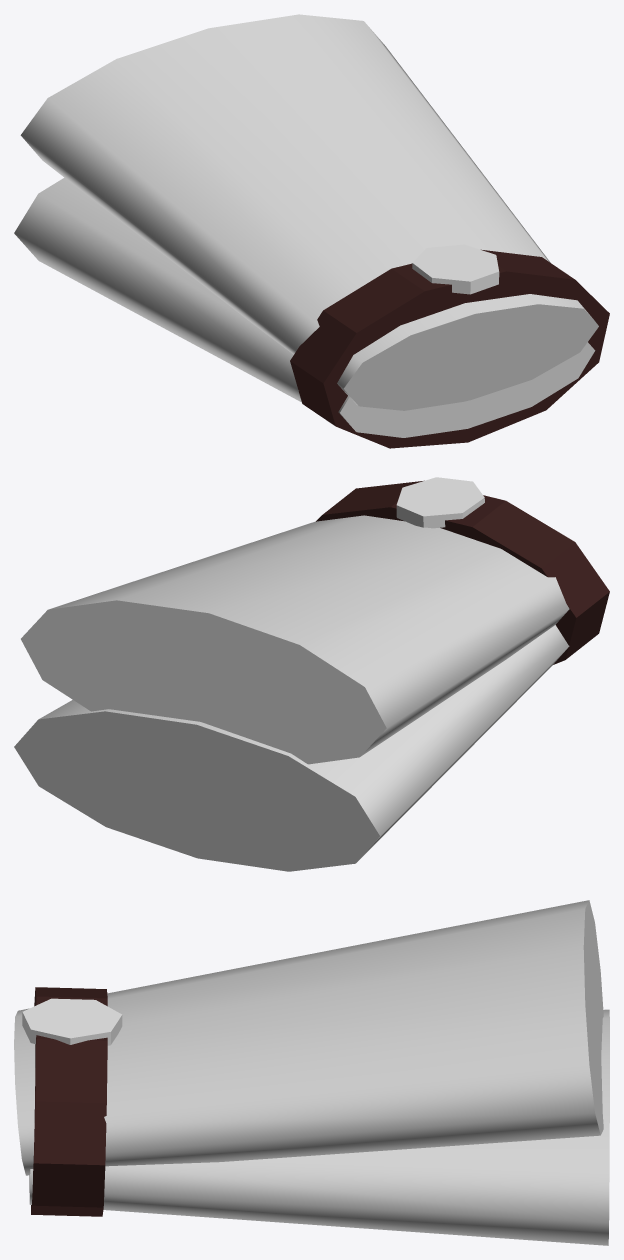
The model's file is skirt-folded-belted.glb.
3 views of the same model, one above another, from view 1: azimuth 30°, elevation 25°; view 2: azimuth 150°, elevation 25°; view 3: azimuth 270°, elevation 25° (orthographic). The views are drawn at different scales.
Parts seen in each view (by area): view 1: Cylinder, Cylinder.001, Cylinder.003, Cylinder.004; view 2: Cylinder, Cylinder.001, Cylinder.003, Cylinder.004; view 3: Cylinder, Cylinder.001, Cylinder.003, Cylinder.004.
Part boxes in pixels (x1,y1,x2,y2): Cylinder: (20, 14, 598, 410); Cylinder.001: (14, 177, 595, 437); Cylinder.003: (290, 249, 609, 448); Cylinder.004: (412, 244, 499, 294); Cylinder: (21, 515, 569, 764); Cylinder.001: (14, 625, 569, 871); Cylinder.003: (316, 480, 609, 664); Cylinder.004: (396, 477, 484, 528); Cylinder: (14, 900, 603, 1175); Cylinder.001: (29, 1009, 609, 1245); Cylinder.003: (31, 987, 107, 1216); Cylinder.004: (22, 998, 122, 1045).
Size of the model in its own units: 0.7776 by 0.4804 by 1.03.
